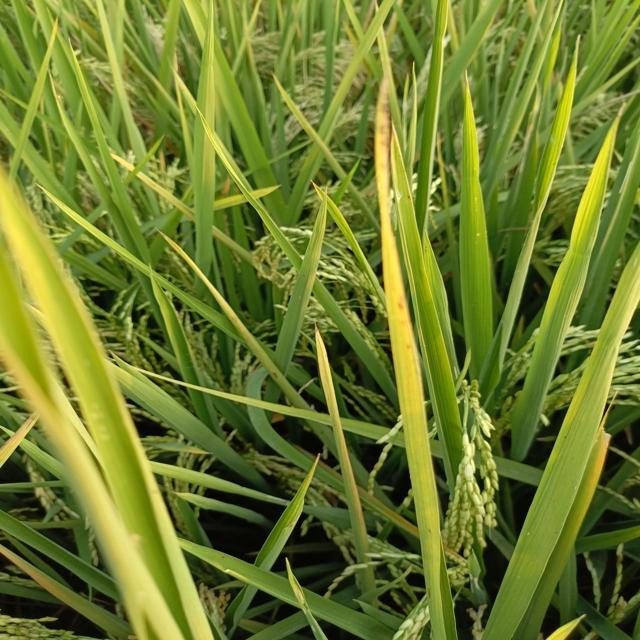insects: (396, 291, 409, 312), (404, 340, 418, 354), (424, 584, 434, 600), (270, 369, 280, 381)
